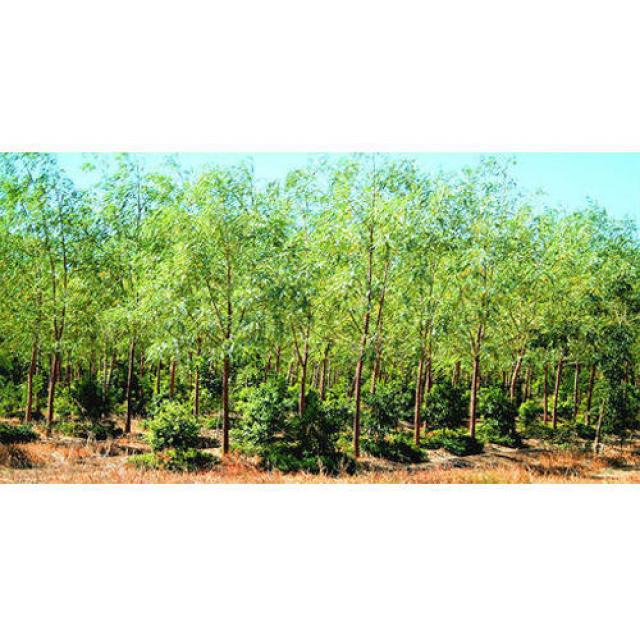Medicinal-Sandalwood: (0, 147, 638, 430)
